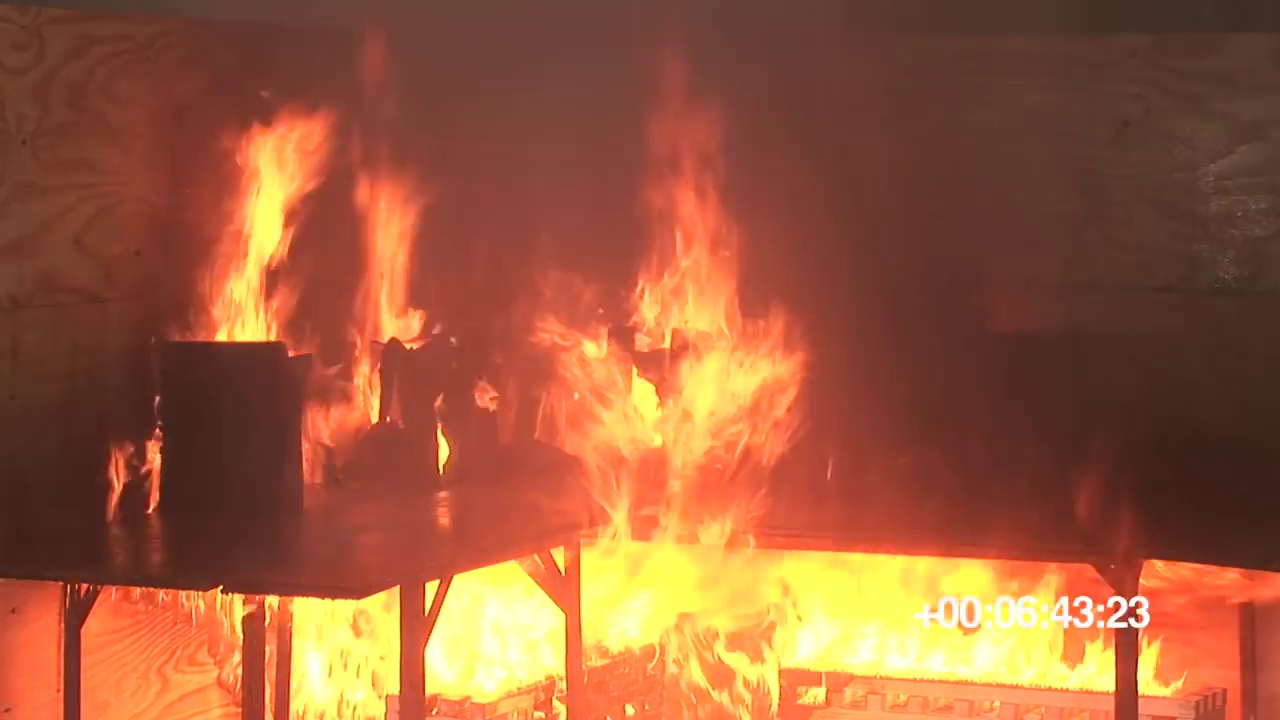fire: (444, 565, 1169, 696), (543, 189, 796, 527), (202, 97, 327, 342), (353, 184, 426, 397), (293, 595, 377, 714)
